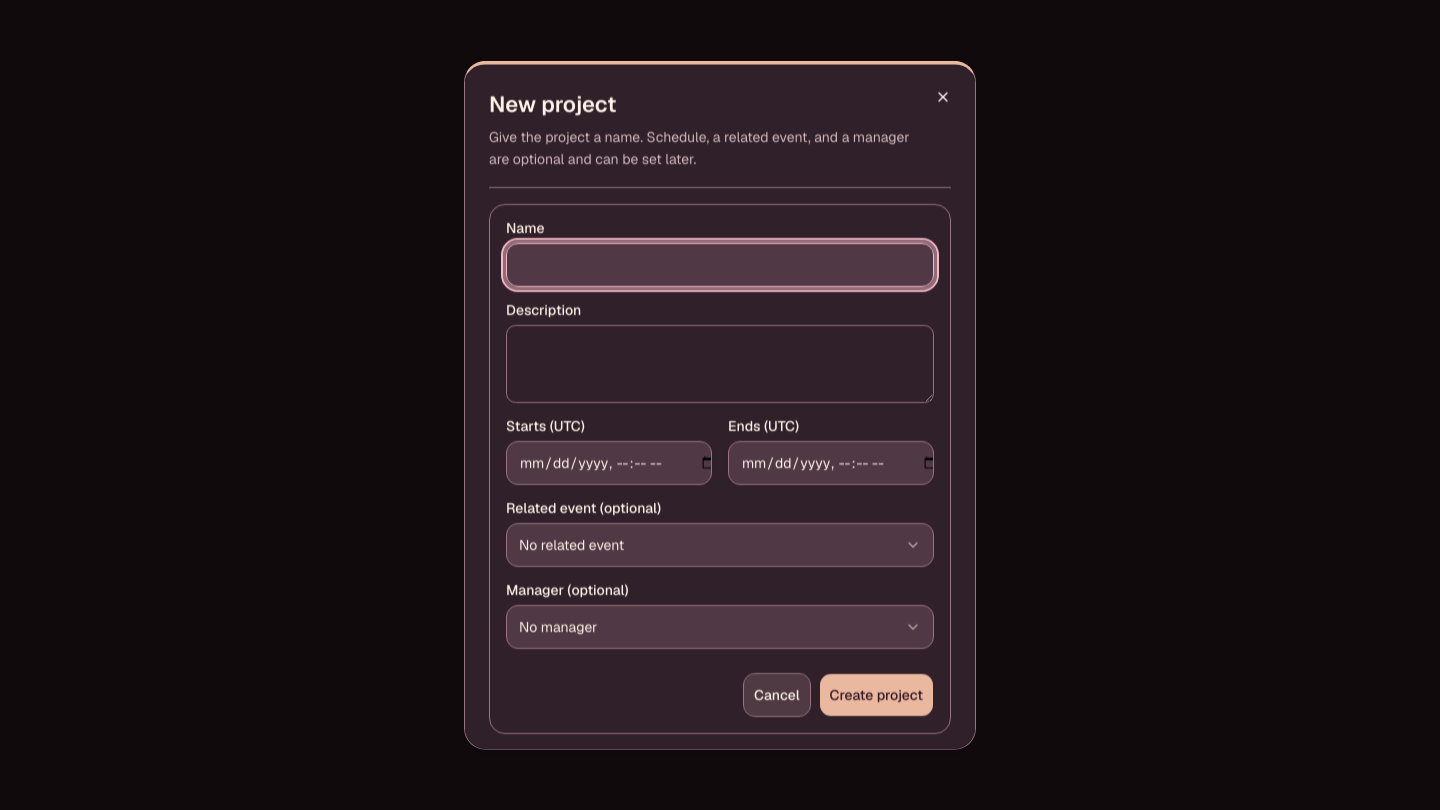
Test case: CreateProjectDialog › blocks submit and shows a field error when the name is blank
This screenshot has width=1440, height=810.
Click the button "Create project" at (876, 694), box [819,672,934,716]
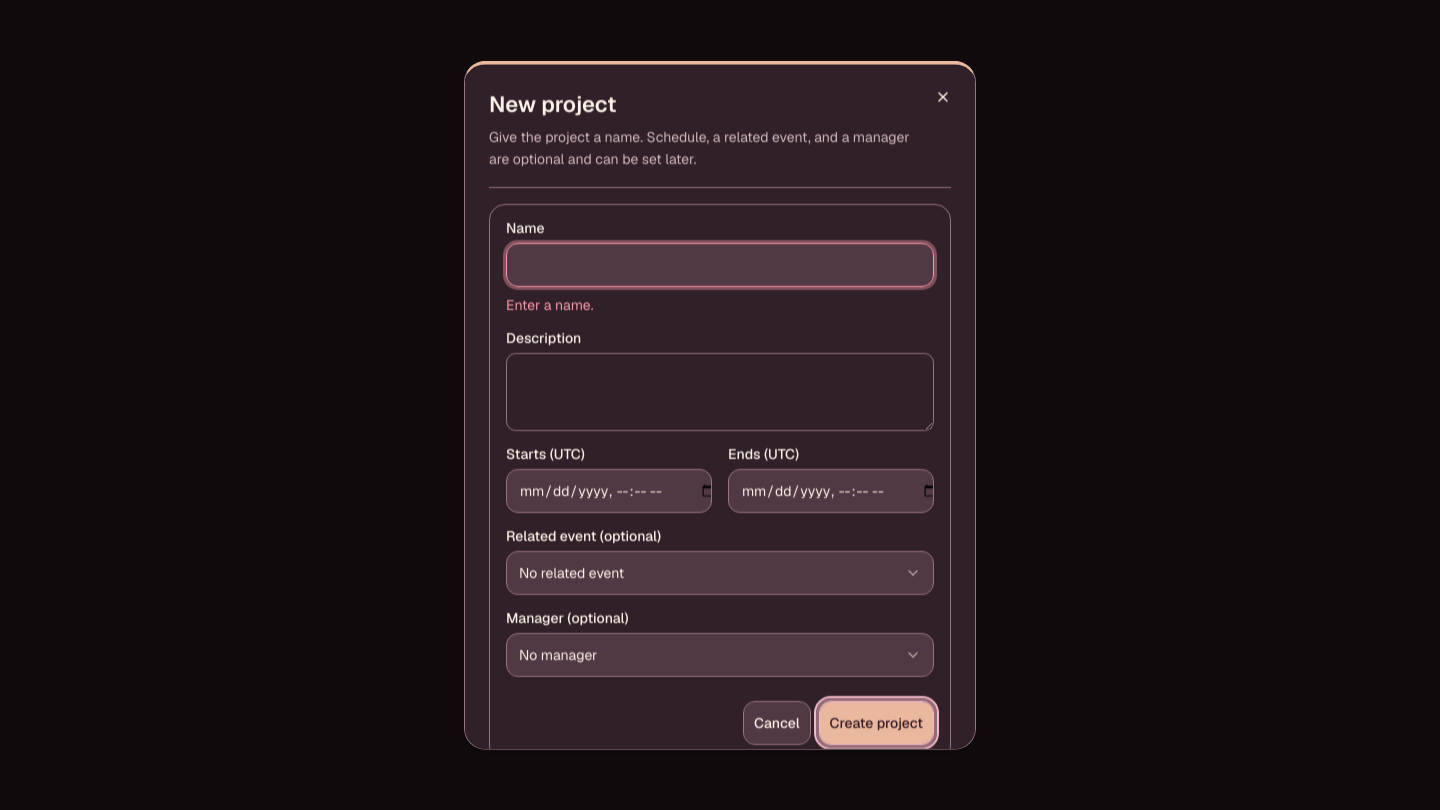
Result: the text "Enter a name." is shown at [506,295,594,313]
